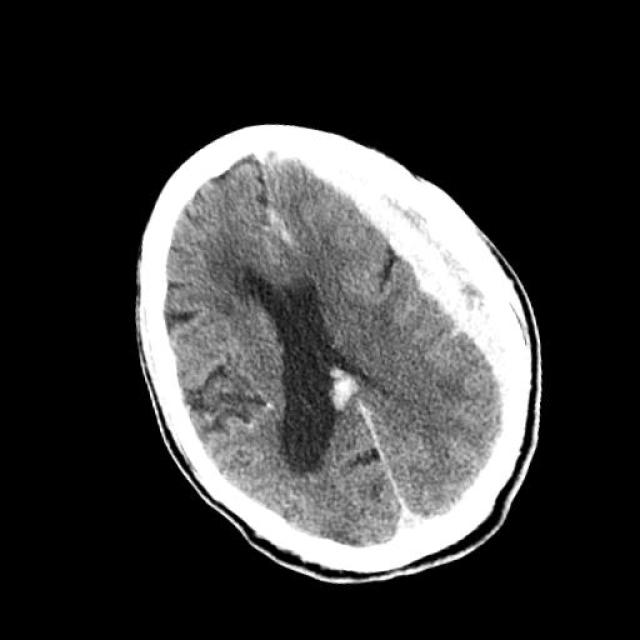Subdural: (301, 101, 611, 402)
